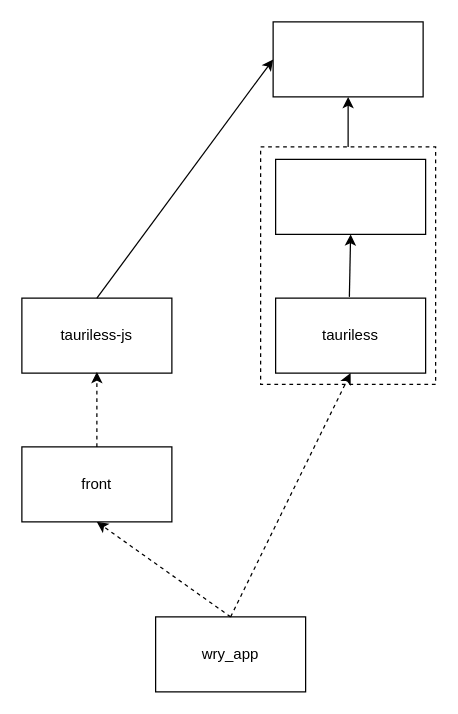
This 458x714 diagram has some shape labels left out. The shapes that lost their labels are listed below. From the top down, each one's box as (x1, y1, x2, y2) in pixels, then its label:
(272, 21, 423, 97): tauriless_common
(274, 158, 426, 234): tauriless_macro
